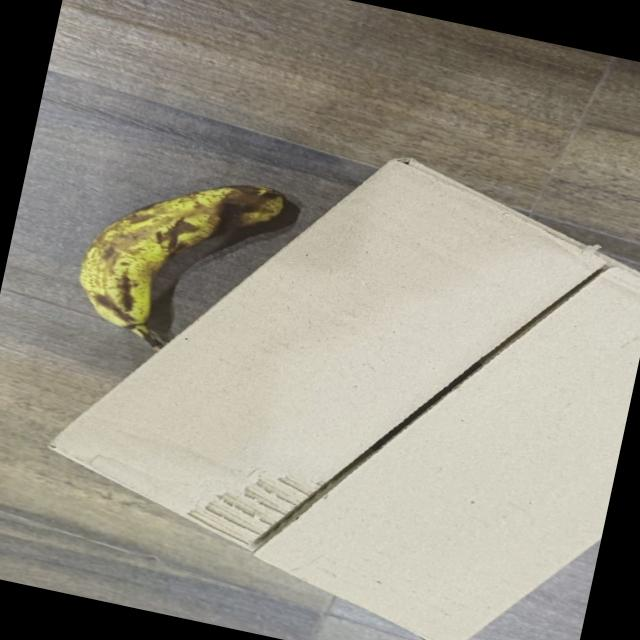Banana-Bio: (64, 147, 298, 380)
CardBoard-Bio: (14, 98, 640, 640)
